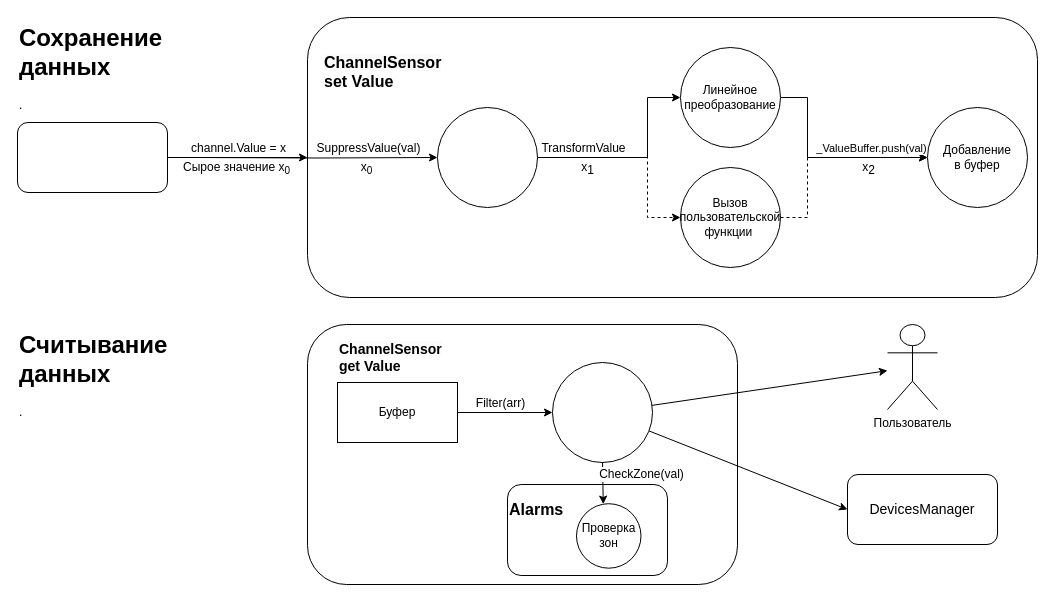
This 1055x602 diagram has some shape labels left out. The shapes that lost their labels are listed below. From the top down, each one's box as (x1, y1, x2, y2) in pixels, then its label:
(16, 122, 168, 192): Sensor
(436, 106, 538, 208): Супрессия
(552, 362, 652, 462): Фильтр
